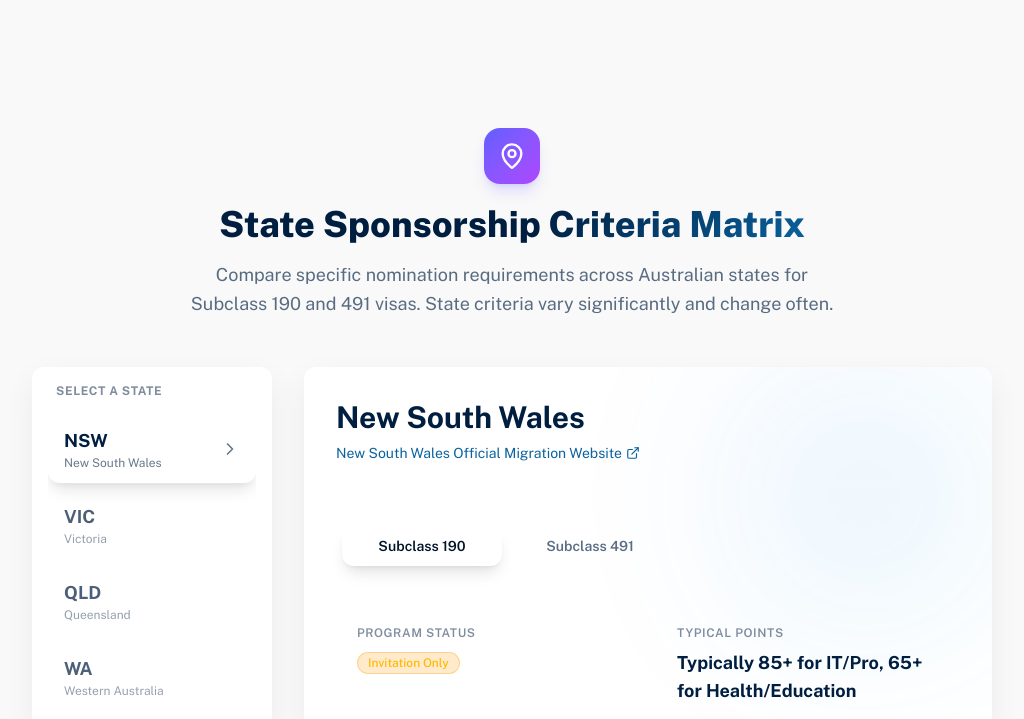
StateSponsorshipPage › switches to 491 criteria when subclass tab is clicked
Expected: the text "Typically 85+ for IT/Pro, 65+ for Health/Education" is shown, [677,648,939,704]
Step 1. Click the button "Subclass 491" → (590, 546), box [510,526,670,566]
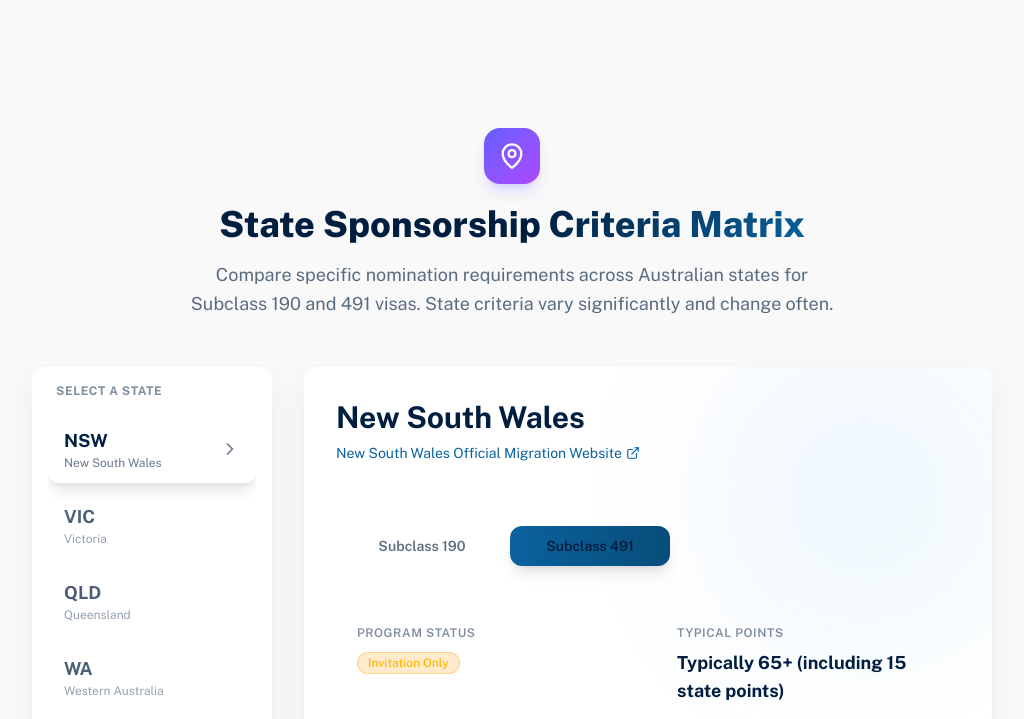
Expected: the text "Typically 65+ (including 15 state points)" is shown, [677,648,939,704]
